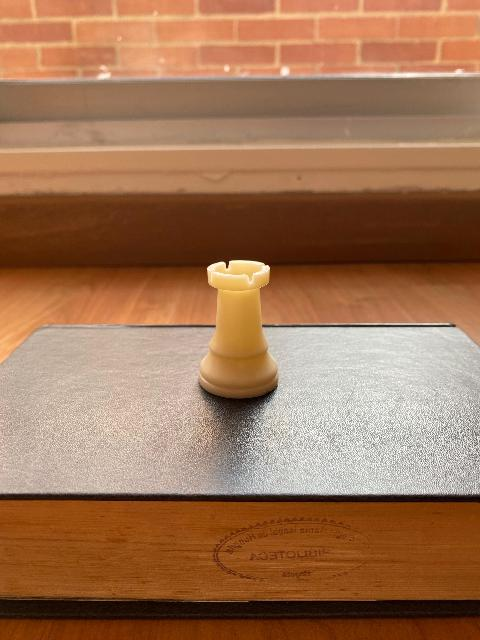white-rook: (198, 259, 280, 399)
